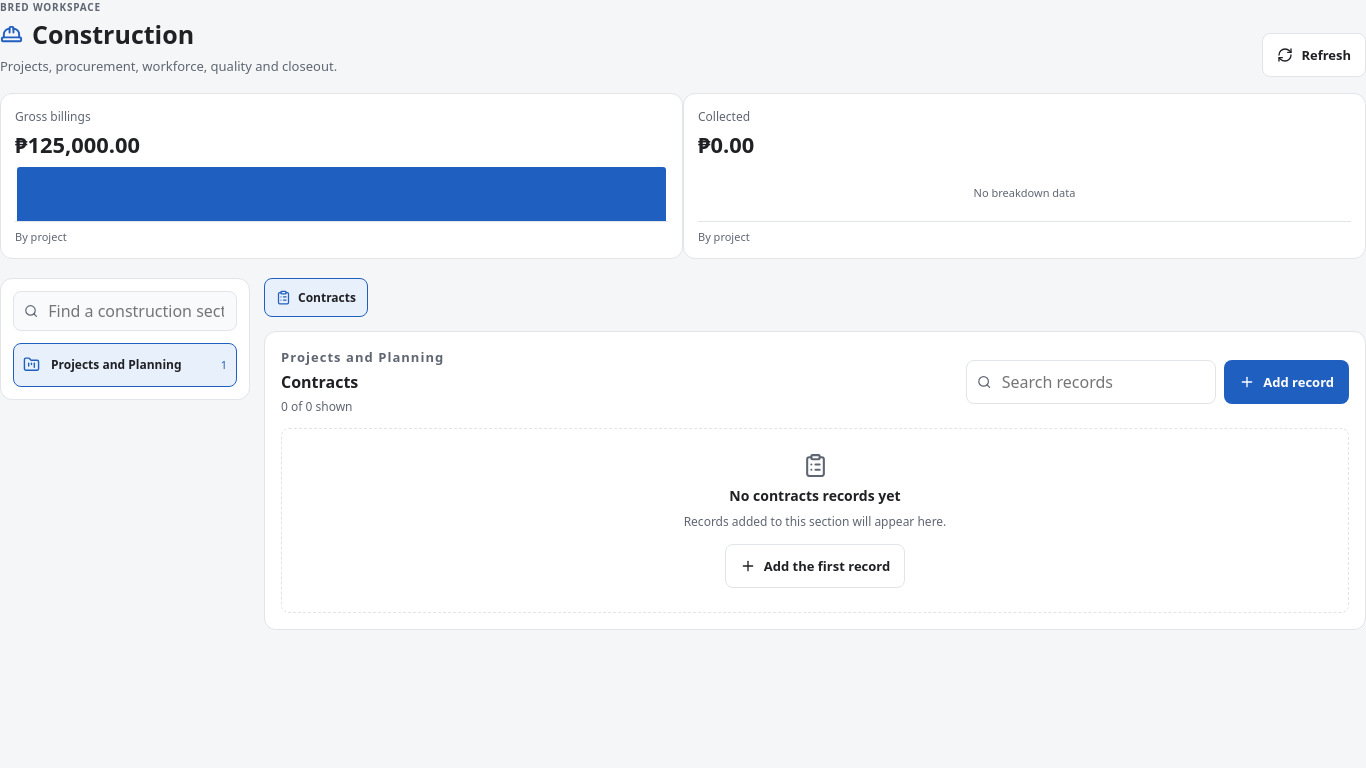
Scenario: ConstructionWorkspace › creates a construction record using the selected table and entered fields
Check: the text "No contracts records yet" is shown, box [729,486,901,505]
Click the button "Add record": (1287, 382) [1224,360,1349,404]
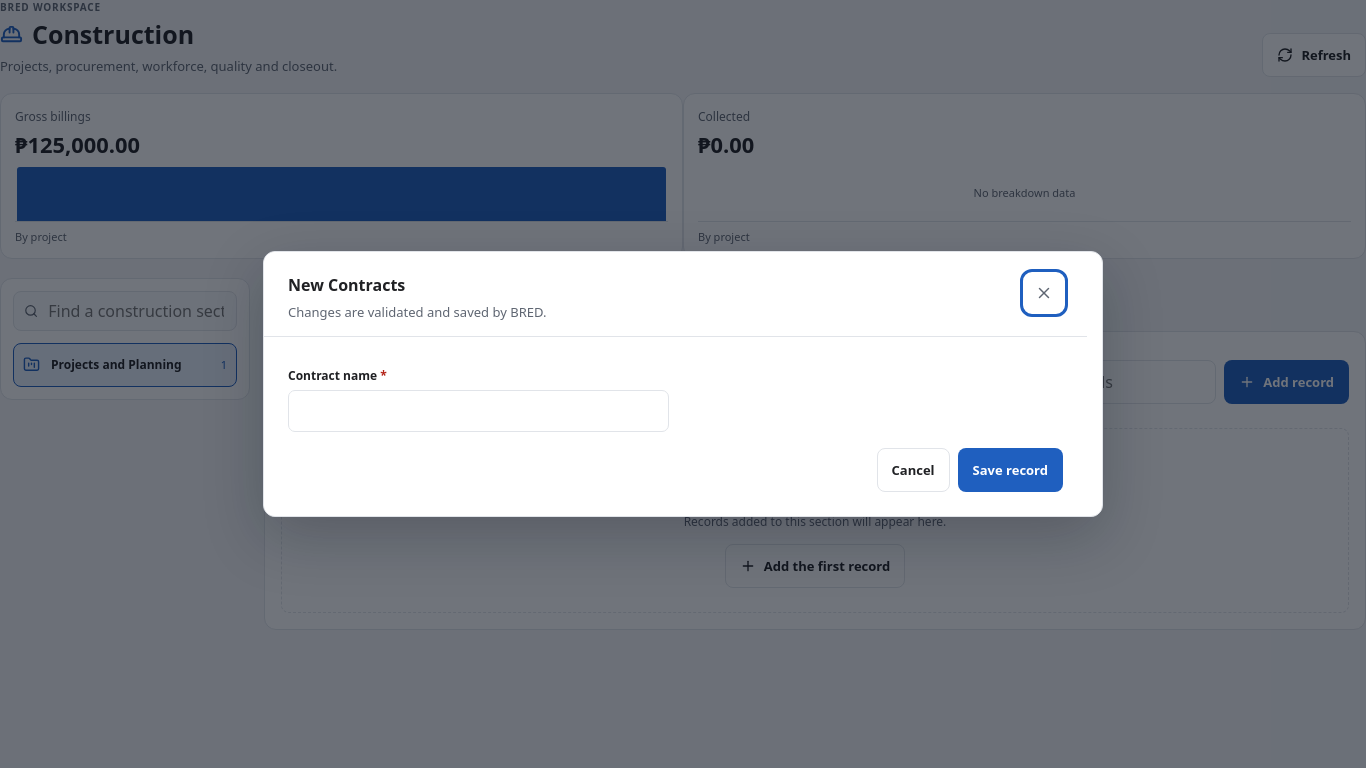
Check: the dialog "New Contracts" is shown, box [263,251,1103,517]
In the field labelled "Contract name *": (478, 411) [288,390,669,432], type "North site contract"
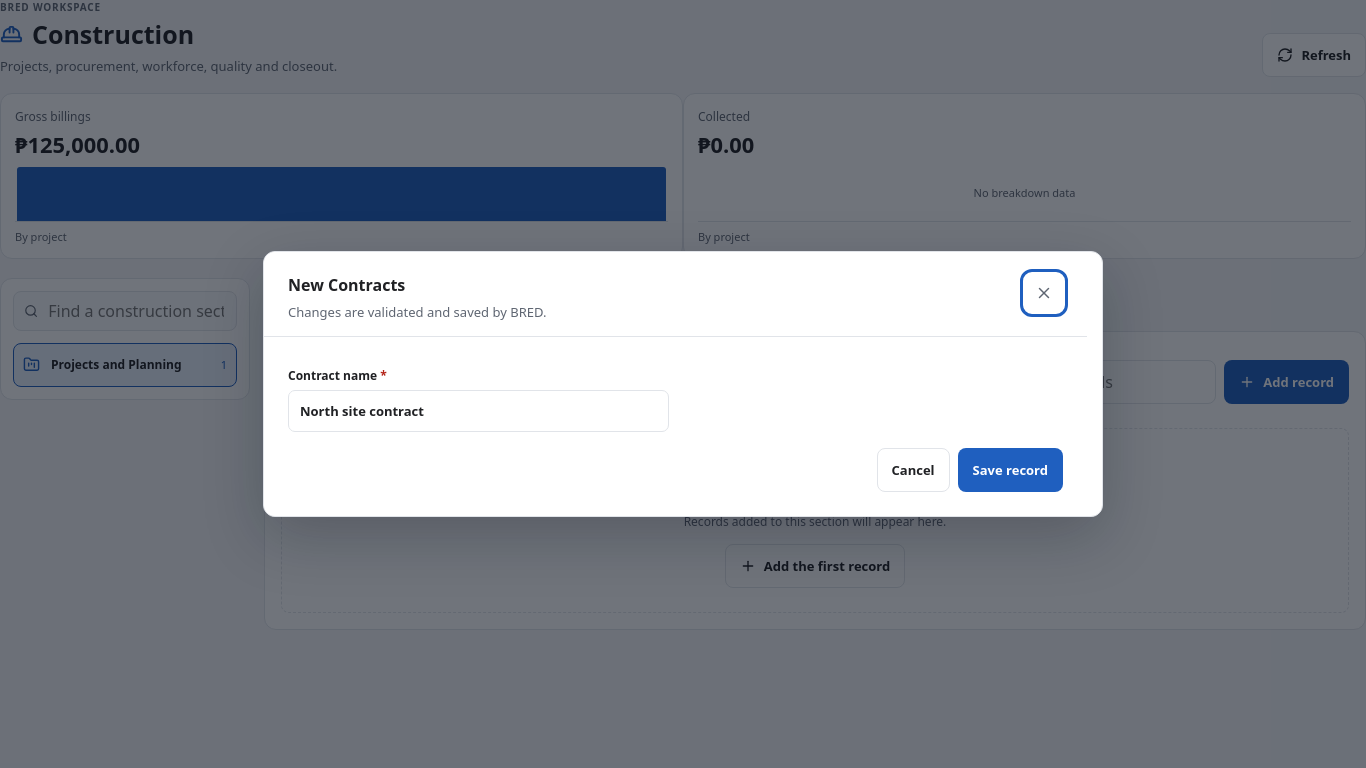
Click the button "Save record": (1010, 470) [958,448,1063,492]
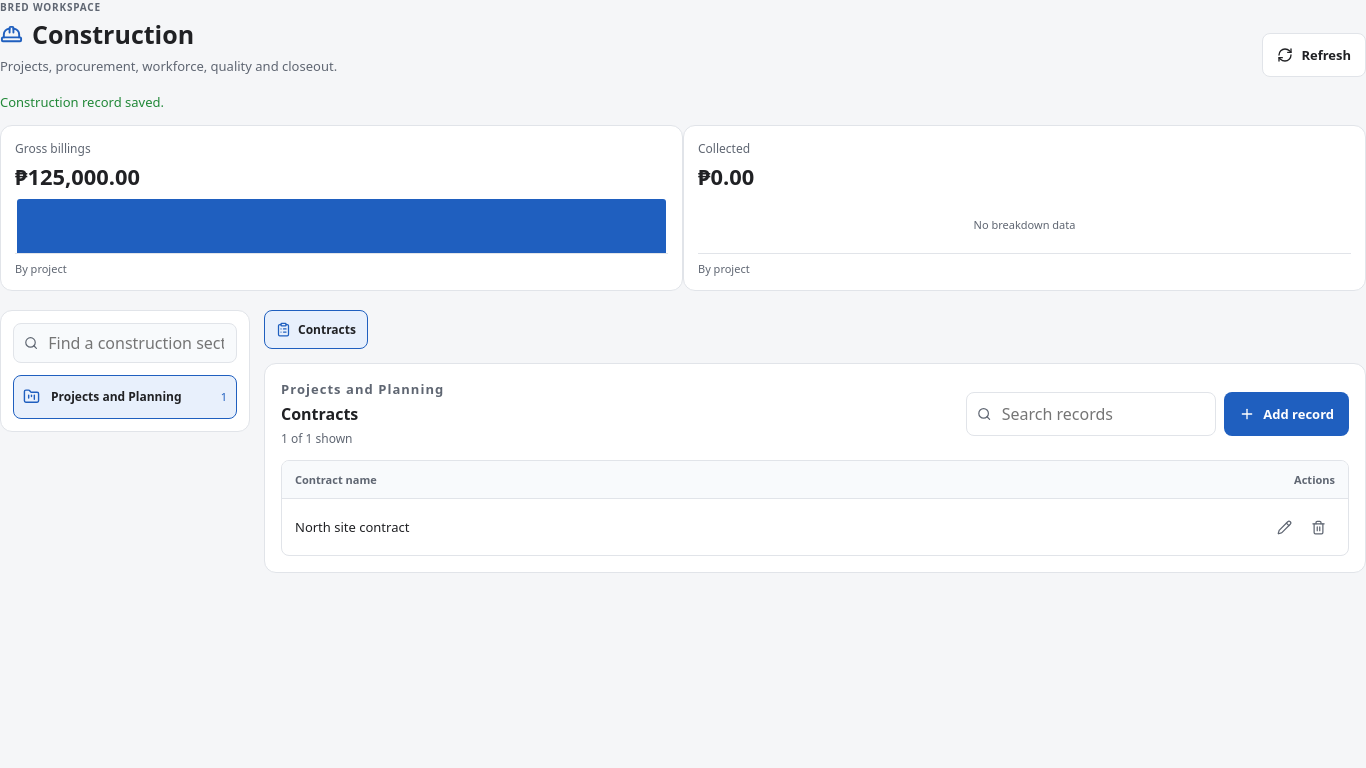
Check: the text "North site contract" is shown, box [282,499,1216,555]
